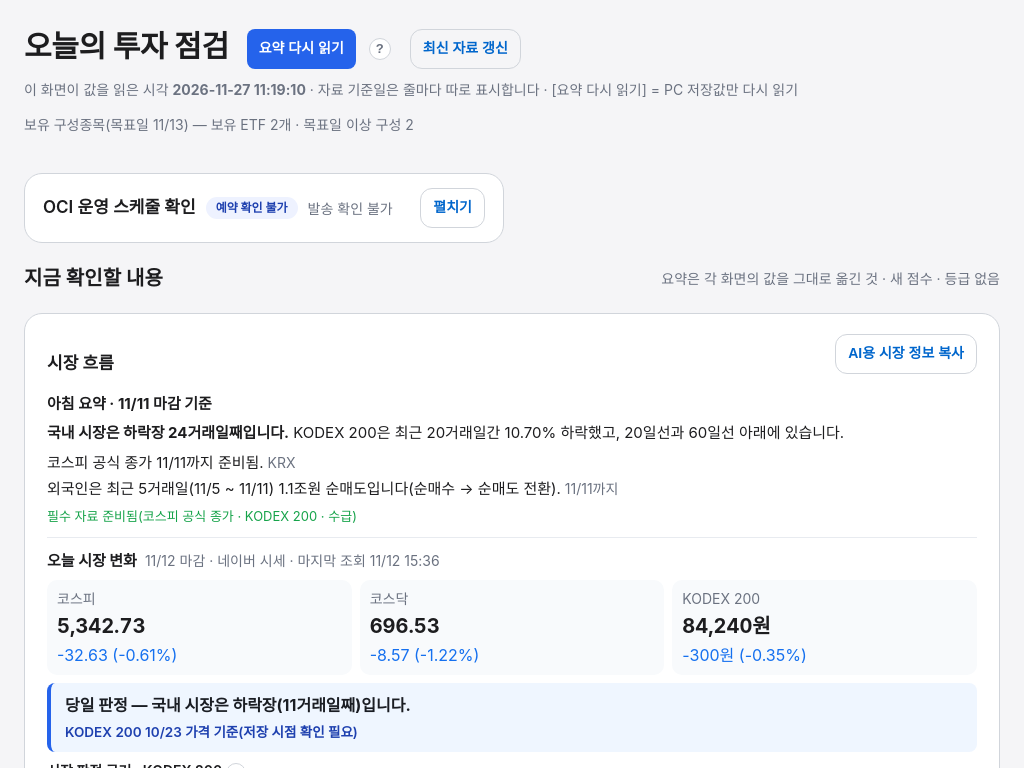
Scenario: POC6-16 · POC6-27 지금 확인할 내용 › [요약 다시 읽기] = 저장 자료 7개만 원천별 1번 · 시장 판정 · OCI · 명령 0 · 중복 클릭 막음 · 완료 표시
Expected: the element with test id "tc-now-regime" is shown, [47, 683, 977, 752]
Click the button "요약 다시 읽기". click: (301, 48)
box: [247, 28, 356, 68]
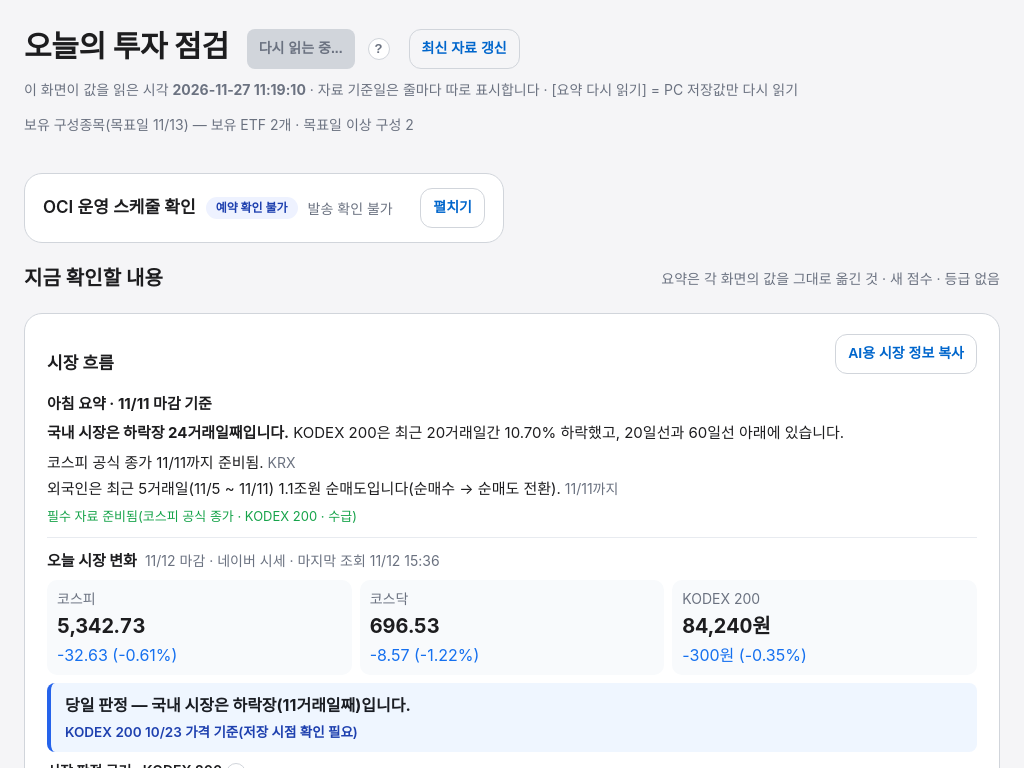
Result: the button "다시 읽는 중..." is disabled
Click the button "다시 읽는 중...". click: (301, 48)
box: [247, 28, 355, 68]
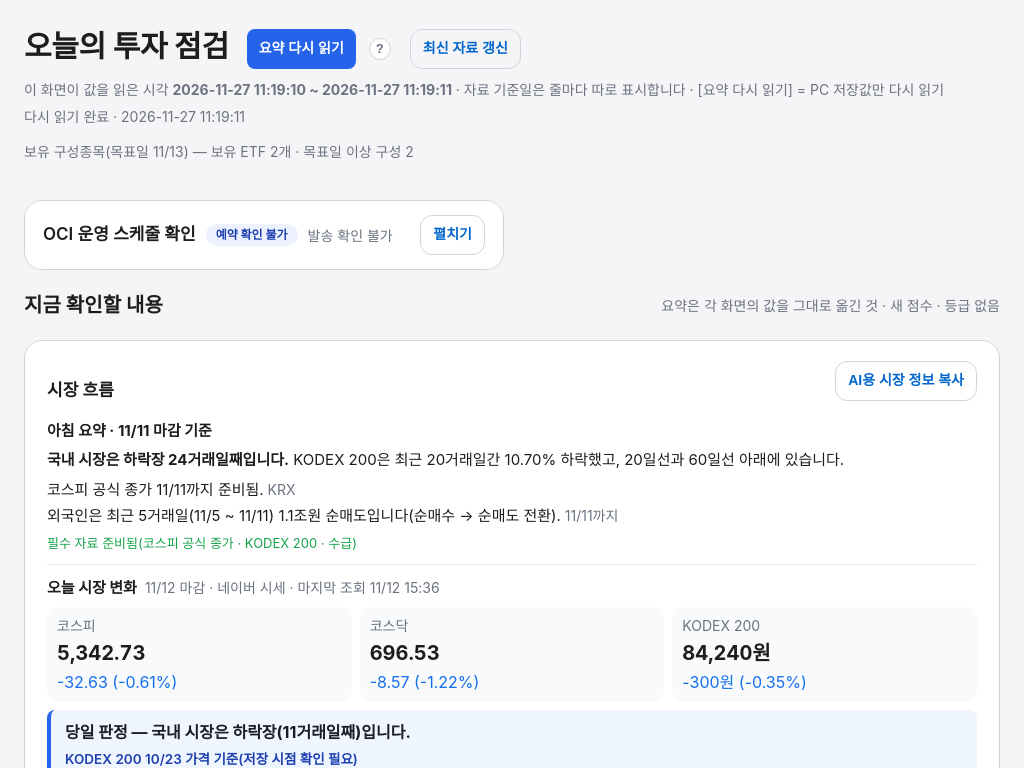
Result: the text "다시 읽기 완료 · 2026-11-27 11:19:11" is shown at [24, 106, 245, 127]
Click the button named "요약 다시 읽기 도움말". click: (380, 48)
box: [360, 28, 400, 68]
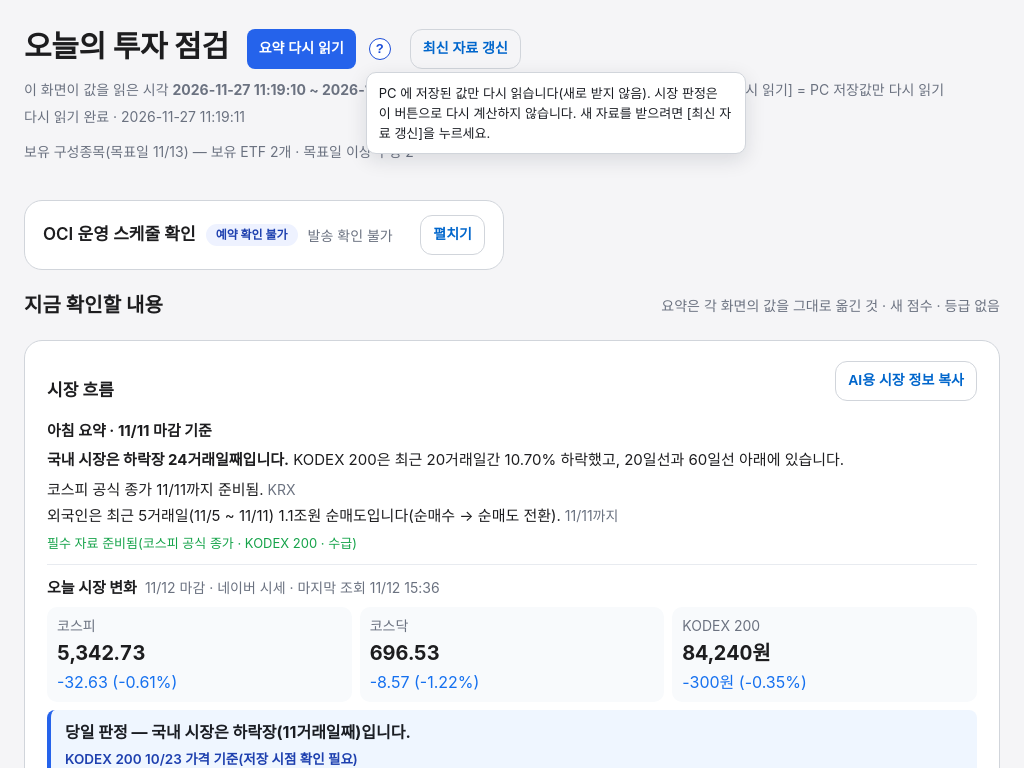
Result: the dialog named "요약 다시 읽기 도움말" shows "PC 에 저장된 값만 다시 읽습니다(새로 받지 않음). 시장 판정은 이 버튼으로 다시 계산하지 않습니다. 새 자료를 받으려면 [최신 자료 갱신]을 누르세요." at [379, 84, 731, 141]
